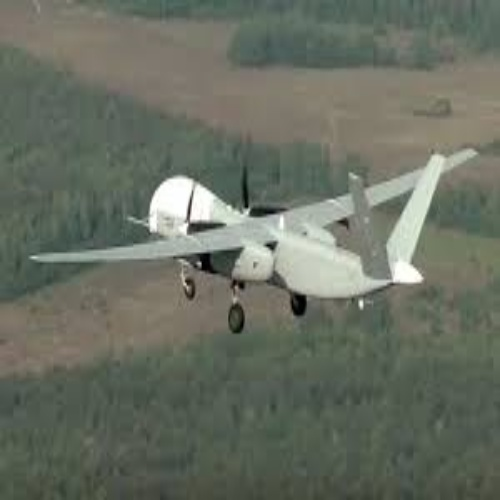uav666: (30, 148, 477, 337)
